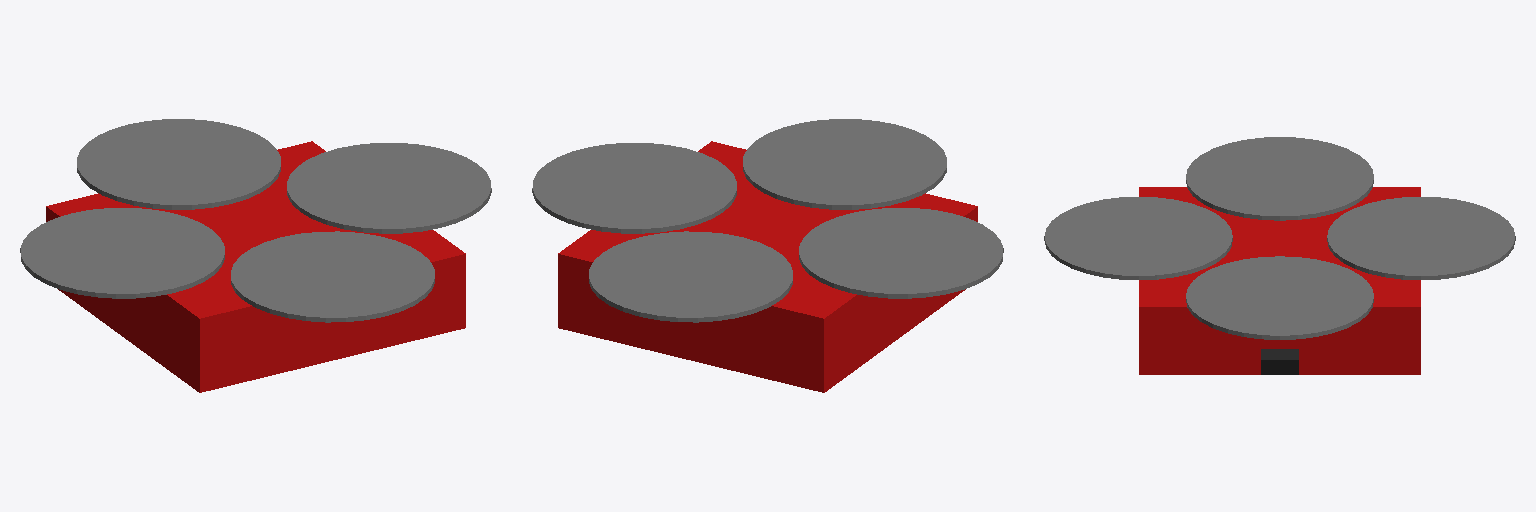
The robot description file, URDF, robot "quadcopter":
<?xml version="1.0"?>
<robot name="quadcopter">
  
  <!-- Dummy base link to avoid KDL root link inertia issue -->
  <link name="world"/>
  
  <joint name="world_to_base" type="fixed">
    <parent link="world"/>
    <child link="base_link"/>
  </joint>
  
  <!-- Main drone body -->
  <link name="base_link">
    <visual>
      <origin xyz="0 0 0" rpy="0 0 0"/>
      <geometry>
        <box size="0.3 0.3 0.08"/>
      </geometry>
      <material name="red">
        <color rgba="0.8 0.1 0.1 1"/>
      </material>
    </visual>
    
    <collision>
      <origin xyz="0 0 0" rpy="0 0 0"/>
      <geometry>
        <box size="0.3 0.3 0.08"/>
      </geometry>
    </collision>
    
    <inertial>
      <origin xyz="0 0 0" rpy="0 0 0"/>
      <mass value="1.5"/>
      <!-- Proper inertia matrix for a box of 0.3x0.3x0.08m with mass 1.5kg -->
      <inertia ixx="0.0125" ixy="0.0" ixz="0.0" 
               iyy="0.0125" iyz="0.0" 
               izz="0.0225"/>
    </inertial>
  </link>
  
  <!-- Arms and Motors -->
  <!-- Front motor (X+) -->
  <link name="motor_front">
    <visual>
      <geometry>
        <cylinder radius="0.02" length="0.01"/>
      </geometry>
      <material name="black">
        <color rgba="0.1 0.1 0.1 1"/>
      </material>
    </visual>
    <collision>
      <geometry>
        <cylinder radius="0.02" length="0.01"/>
      </geometry>
    </collision>
    <inertial>
      <mass value="0.05"/>
      <inertia ixx="0.0001" ixy="0" ixz="0" iyy="0.0001" iyz="0" izz="0.0001"/>
    </inertial>
  </link>
  
  <joint name="motor_front_joint" type="continuous">
    <parent link="base_link"/>
    <child link="motor_front"/>
    <origin xyz="0.15 0 0.04" rpy="0 0 0"/>
    <axis xyz="0 0 1"/>
  </joint>
  
  <!-- Propeller for front motor -->
  <link name="prop_front">
    <visual>
      <geometry>
        <cylinder radius="0.1" length="0.005"/>
      </geometry>
      <material name="gray">
        <color rgba="0.5 0.5 0.5 0.7"/>
      </material>
    </visual>
    <inertial>
      <mass value="0.01"/>
      <inertia ixx="0.00001" ixy="0" ixz="0" iyy="0.00001" iyz="0" izz="0.00002"/>
    </inertial>
  </link>
  
  <joint name="prop_front_joint" type="fixed">
    <parent link="motor_front"/>
    <child link="prop_front"/>
    <origin xyz="0 0 0.01" rpy="0 0 0"/>
  </joint>
  
  <!-- Back motor (X-) -->
  <link name="motor_back">
    <visual>
      <geometry>
        <cylinder radius="0.02" length="0.01"/>
      </geometry>
      <material name="black">
        <color rgba="0.1 0.1 0.1 1"/>
      </material>
    </visual>
    <collision>
      <geometry>
        <cylinder radius="0.02" length="0.01"/>
      </geometry>
    </collision>
    <inertial>
      <mass value="0.05"/>
      <inertia ixx="0.0001" ixy="0" ixz="0" iyy="0.0001" iyz="0" izz="0.0001"/>
    </inertial>
  </link>
  
  <joint name="motor_back_joint" type="continuous">
    <parent link="base_link"/>
    <child link="motor_back"/>
    <origin xyz="-0.15 0 0.04" rpy="0 0 0"/>
    <axis xyz="0 0 1"/>
  </joint>
  
  <link name="prop_back">
    <visual>
      <geometry>
        <cylinder radius="0.1" length="0.005"/>
      </geometry>
      <material name="gray">
        <color rgba="0.5 0.5 0.5 0.7"/>
      </material>
    </visual>
    <inertial>
      <mass value="0.01"/>
      <inertia ixx="0.00001" ixy="0" ixz="0" iyy="0.00001" iyz="0" izz="0.00002"/>
    </inertial>
  </link>
  
  <joint name="prop_back_joint" type="fixed">
    <parent link="motor_back"/>
    <child link="prop_back"/>
    <origin xyz="0 0 0.01" rpy="0 0 0"/>
  </joint>
  
  <!-- Left motor (Y+) -->
  <link name="motor_left">
    <visual>
      <geometry>
        <cylinder radius="0.02" length="0.01"/>
      </geometry>
      <material name="black">
        <color rgba="0.1 0.1 0.1 1"/>
      </material>
    </visual>
    <collision>
      <geometry>
        <cylinder radius="0.02" length="0.01"/>
      </geometry>
    </collision>
    <inertial>
      <mass value="0.05"/>
      <inertia ixx="0.0001" ixy="0" ixz="0" iyy="0.0001" iyz="0" izz="0.0001"/>
    </inertial>
  </link>
  
  <joint name="motor_left_joint" type="continuous">
    <parent link="base_link"/>
    <child link="motor_left"/>
    <origin xyz="0 0.15 0.04" rpy="0 0 0"/>
    <axis xyz="0 0 1"/>
  </joint>
  
  <link name="prop_left">
    <visual>
      <geometry>
        <cylinder radius="0.1" length="0.005"/>
      </geometry>
      <material name="gray">
        <color rgba="0.5 0.5 0.5 0.7"/>
      </material>
    </visual>
    <inertial>
      <mass value="0.01"/>
      <inertia ixx="0.00001" ixy="0" ixz="0" iyy="0.00001" iyz="0" izz="0.00002"/>
    </inertial>
  </link>
  
  <joint name="prop_left_joint" type="fixed">
    <parent link="motor_left"/>
    <child link="prop_left"/>
    <origin xyz="0 0 0.01" rpy="0 0 0"/>
  </joint>
  
  <!-- Right motor (Y-) -->
  <link name="motor_right">
    <visual>
      <geometry>
        <cylinder radius="0.02" length="0.01"/>
      </geometry>
      <material name="black">
        <color rgba="0.1 0.1 0.1 1"/>
      </material>
    </visual>
    <collision>
      <geometry>
        <cylinder radius="0.02" length="0.01"/>
      </geometry>
    </collision>
    <inertial>
      <mass value="0.05"/>
      <inertia ixx="0.0001" ixy="0" ixz="0" iyy="0.0001" iyz="0" izz="0.0001"/>
    </inertial>
  </link>
  
  <joint name="motor_right_joint" type="continuous">
    <parent link="base_link"/>
    <child link="motor_right"/>
    <origin xyz="0 -0.15 0.04" rpy="0 0 0"/>
    <axis xyz="0 0 1"/>
  </joint>
  
  <link name="prop_right">
    <visual>
      <geometry>
        <cylinder radius="0.1" length="0.005"/>
      </geometry>
      <material name="gray">
        <color rgba="0.5 0.5 0.5 0.7"/>
      </material>
    </visual>
    <inertial>
      <mass value="0.01"/>
      <inertia ixx="0.00001" ixy="0" ixz="0" iyy="0.00001" iyz="0" izz="0.00002"/>
    </inertial>
  </link>
  
  <joint name="prop_right_joint" type="fixed">
    <parent link="motor_right"/>
    <child link="prop_right"/>
    <origin xyz="0 0 0.01" rpy="0 0 0"/>
  </joint>
  
  <!-- IMU sensor -->
  <link name="imu_link">
    <visual>
      <geometry>
        <box size="0.01 0.01 0.005"/>
      </geometry>
      <material name="blue">
        <color rgba="0 0 1 1"/>
      </material>
    </visual>
    <inertial>
      <mass value="0.001"/>
      <inertia ixx="0.00001" ixy="0" ixz="0" iyy="0.00001" iyz="0" izz="0.00001"/>
    </inertial>
  </link>
  
  <joint name="imu_joint" type="fixed">
    <parent link="base_link"/>
    <child link="imu_link"/>
    <origin xyz="0 0 0" rpy="0 0 0"/>
  </joint>
  
  <!-- Camera -->
  <link name="camera_link">
    <visual>
      <geometry>
        <box size="0.02 0.04 0.02"/>
      </geometry>
      <material name="dark_gray">
        <color rgba="0.2 0.2 0.2 1"/>
      </material>
    </visual>
    <inertial>
      <mass value="0.01"/>
      <inertia ixx="0.00001" ixy="0" ixz="0" iyy="0.00001" iyz="0" izz="0.00001"/>
    </inertial>
  </link>
  
  <joint name="camera_joint" type="fixed">
    <parent link="base_link"/>
    <child link="camera_link"/>
    <origin xyz="0.16 0 -0.02" rpy="0 0.2 0"/>
  </joint>

  <!-- Gazebo plugins -->
  <gazebo>
    <!-- IMU plugin -->
    <plugin filename="libgz-sim-imu-system.so" name="gz::sim::systems::Imu">
      <alwaysOn>true</alwaysOn>
      <updateRate>250</updateRate>
    </plugin>
    
    <!-- Multicopter control plugin -->
    <plugin filename="libgz-sim-multicopter-control-system.so" name="gz::sim::systems::MulticopterVelocityControl">
      <commandSubTopic>cmd_vel</commandSubTopic>
      <robotNamespace>drone</robotNamespace>
      <rotorConfiguration>
        <rotor>
          <jointName>motor_front_joint</jointName>
          <forceConstant>8.54858e-06</forceConstant>
          <momentConstant>0.016</momentConstant>
          <direction>1</direction>
        </rotor>
        <rotor>
          <jointName>motor_back_joint</jointName>
          <forceConstant>8.54858e-06</forceConstant>
          <momentConstant>0.016</momentConstant>
          <direction>-1</direction>
        </rotor>
        <rotor>
          <jointName>motor_left_joint</jointName>
          <forceConstant>8.54858e-06</forceConstant>
          <momentConstant>0.016</momentConstant>
          <direction>1</direction>
        </rotor>
        <rotor>
          <jointName>motor_right_joint</jointName>
          <forceConstant>8.54858e-06</forceConstant>
          <momentConstant>0.016</momentConstant>
          <direction>-1</direction>
        </rotor>
      </rotorConfiguration>
    </plugin>
  </gazebo>
  
  <!-- Color definitions for Gazebo -->
  <gazebo reference="base_link">
    <material>Gazebo/Red</material>
  </gazebo>
  
  <gazebo reference="imu_link">
    <material>Gazebo/Blue</material>
  </gazebo>
  
  <gazebo reference="camera_link">
    <material>Gazebo/Black</material>
  </gazebo>
</robot>

--- Render facts (derived) ---
The picture shows the robot from 3 angles, left to right: view 1: azimuth 30°, elevation 25°; view 2: azimuth 150°, elevation 25°; view 3: azimuth 270°, elevation 25°; orthographic projection.
Model quadcopter with 12 links and 11 joints (4 continuous, 7 fixed), rooted at world, posed every joint at zero.
Visible links, largest first — view 1: base_link, prop_front, prop_back, prop_left, prop_right; view 2: base_link, prop_front, prop_back, prop_right, prop_left; view 3: base_link, prop_back, prop_front, prop_left, prop_right, camera_link.
Boxes of the visible links, x1,y1,x2,y2 form: base_link: (46,141,465,392); prop_front: (287,143,491,233); prop_back: (20,208,224,298); prop_left: (77,119,280,209); prop_right: (231,231,434,322); base_link: (558,141,977,392); prop_front: (532,143,736,233); prop_back: (799,208,1003,298); prop_right: (743,119,946,209); prop_left: (589,231,792,322); base_link: (1139,187,1420,374); prop_back: (1186,137,1373,220); prop_front: (1186,256,1373,339); prop_left: (1327,197,1515,279); prop_right: (1044,197,1232,279); camera_link: (1261,349,1298,374).
Size in the robot's own frame: 0.5 by 0.5 by 0.0925 metres.
Geometry: primitives only (box / cylinder / sphere), no mesh files.